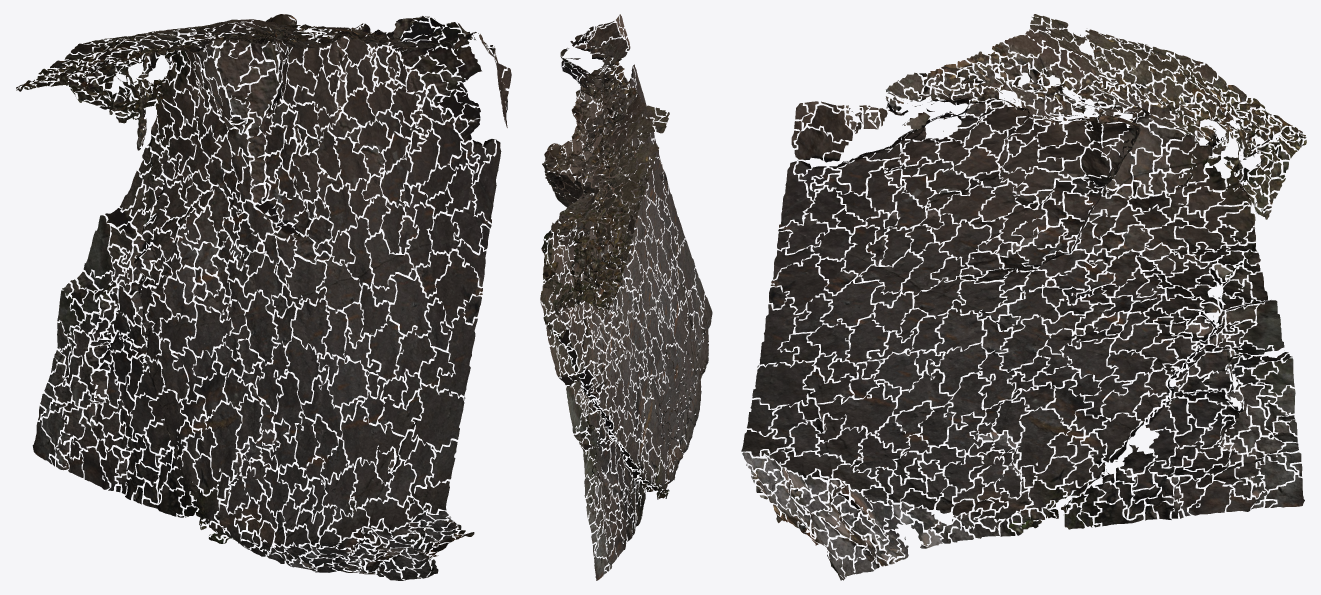
Rendered from gst7.glb.
3 views of the same model, side by side, from view 1: azimuth 30°, elevation 25°; view 2: azimuth 150°, elevation 25°; view 3: azimuth 270°, elevation 25° (orthographic). The views are drawn at different scales.
Size of the model in its own units: 10.23 by 19.63 by 19.58.
1 material, 1 textured.
